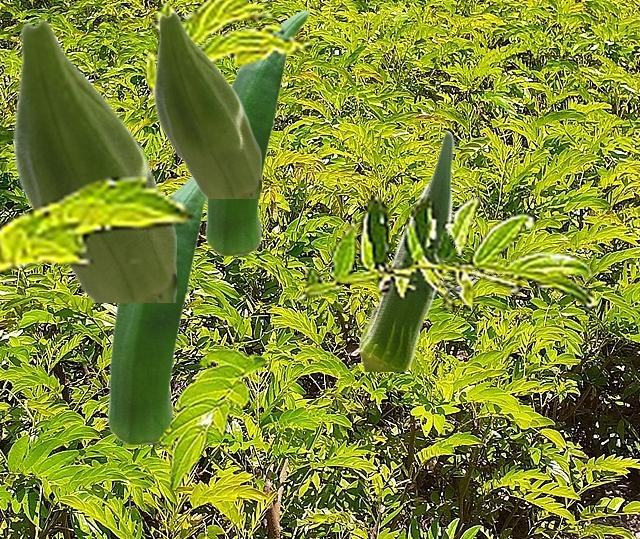okra: (12, 18, 175, 301), (106, 177, 207, 443), (204, 9, 309, 254), (358, 130, 453, 370), (153, 11, 260, 197)
